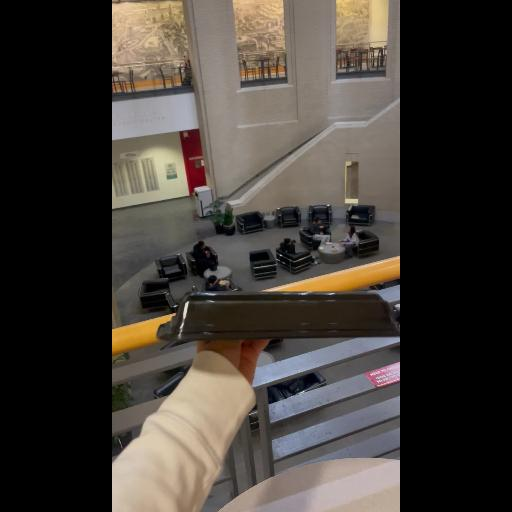rigid_plastic_container: (156, 292, 400, 346)
